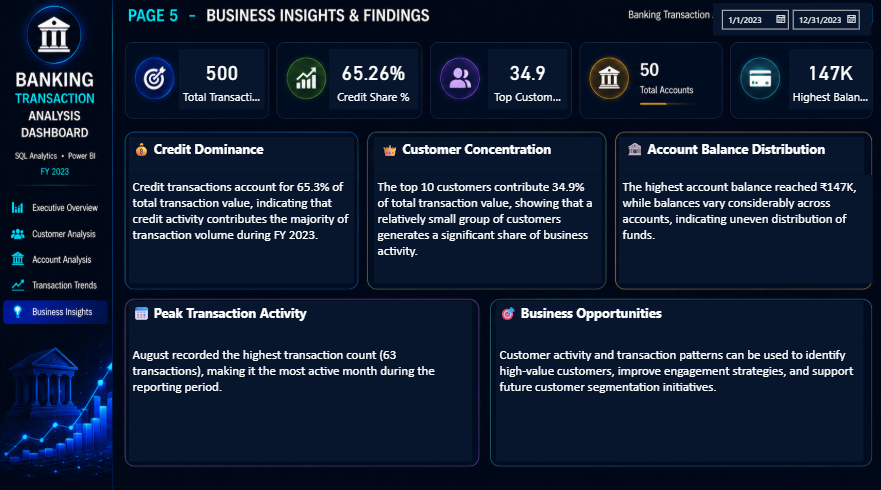

What the dashboard file says about the page in this screenshot:
{"tool":"powerbi","page":{"name":"Page 5","canvas":[1280,720],"ordinal":4},"visuals":[{"type":"card","fields":{"Values":["banking_transactions.Total Transactions"]},"box":[262,77.3,122.6,87.3],"z":0},{"type":"card","fields":{"Values":["banking_transactions.Credit Share %"]},"box":[478.7,77.3,127.7,87.3],"z":1000},{"type":"card","fields":{"Values":["banking_transactions.Highest Balance"]},"box":[1140.6,77.3,119.3,87.3],"z":2000},{"type":"textbox","box":[189.8,258.7,324.2,156.2],"z":3000},{"type":"textbox","box":[542.6,258.7,327.6,156.2],"z":4000},{"type":"textbox","box":[895.3,258.7,364.5,156.2],"z":5000},{"type":"textbox","box":[189.8,500.6,493.9,171.3],"z":6000},{"type":"textbox","box":[719,500.6,529.1,171.3],"z":7000},{"type":"card","fields":{"Values":["banking_transactions.Top Customer Share %"]},"box":[707.2,77.3,114.2,87.3],"z":8000},{"type":"slicer","fields":{"Values":["banking_transactions.TransactionDate"]},"box":[1031.4,11.8,228.5,47],"z":9000},{"type":"actionButton","box":[0,401.5,152.9,38.6],"z":10000},{"type":"actionButton","box":[0,362.8,151.2,38.6],"z":11000},{"type":"actionButton","box":[15.1,324.2,151.2,38.6],"z":12000},{"type":"actionButton","box":[15.1,285.6,151.2,38.6],"z":13000},{"type":"textbox","box":[189.8,204.9,324.2,53.8],"z":14000},{"type":"textbox","box":[542.6,204.9,327.6,53.8],"z":15000},{"type":"textbox","box":[895.3,204.9,352.8,53.8],"z":16000},{"type":"textbox","box":[189.8,440.1,493.9,60.5],"z":17000},{"type":"textbox","box":[719,440.1,529.1,60.5],"z":18000}]}

Visuals, with their boxes on the page's 1280x720 design canvas (x1, y1, x2, y2). These are canvas units, not pixel positions in the 881x490 screenshot, which may show the page scaled, cropped or inside an application window:
card - banking_transactions.Total Transactions: box=[262, 77, 385, 165]
card - banking_transactions.Credit Share %: box=[479, 77, 606, 165]
card - banking_transactions.Highest Balance: box=[1141, 77, 1260, 165]
textbox: box=[190, 259, 514, 415]
textbox: box=[543, 259, 870, 415]
textbox: box=[895, 259, 1260, 415]
textbox: box=[190, 501, 684, 672]
textbox: box=[719, 501, 1248, 672]
card - banking_transactions.Top Customer Share %: box=[707, 77, 821, 165]
slicer - banking_transactions.TransactionDate: box=[1031, 12, 1260, 59]
actionButton: box=[0, 402, 153, 440]
actionButton: box=[0, 363, 151, 401]
actionButton: box=[15, 324, 166, 363]
actionButton: box=[15, 286, 166, 324]
textbox: box=[190, 205, 514, 259]
textbox: box=[543, 205, 870, 259]
textbox: box=[895, 205, 1248, 259]
textbox: box=[190, 440, 684, 501]
textbox: box=[719, 440, 1248, 501]
